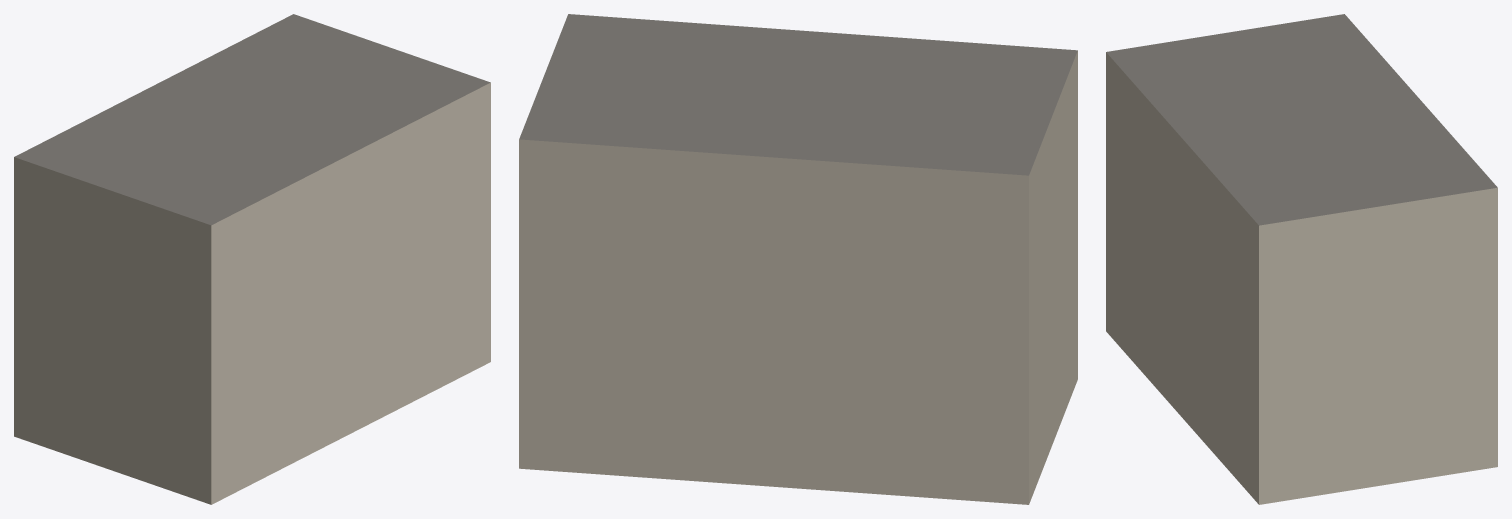
3 views of the same model, side by side, from view 1: azimuth 30°, elevation 25°; view 2: azimuth 150°, elevation 25°; view 3: azimuth 270°, elevation 25° (orthographic). The views are drawn at different scales.
Parts seen in each view (by area): view 1: HP-w442027174; view 2: HP-w442027174; view 3: HP-w442027174.
Part boxes in pixels (x1,y1,x2,y2): HP-w442027174: (14, 14, 490, 504); HP-w442027174: (519, 14, 1077, 504); HP-w442027174: (1106, 14, 1497, 504).
Bounding box in the file's own units: 29.24 × 18 × 22.88.
